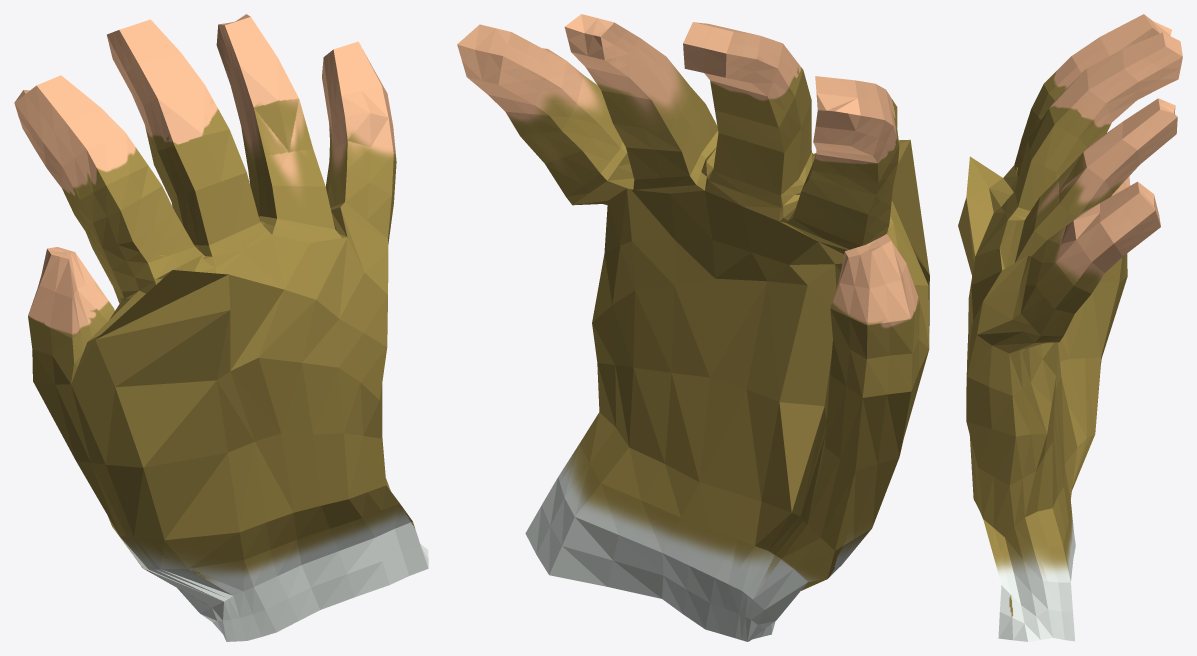
File: grip0022.obj
The picture shows the model from 3 angles, left to right: view 1: azimuth 30°, elevation 25°; view 2: azimuth 150°, elevation 25°; view 3: azimuth 270°, elevation 25°; orthographic projection. The views are drawn at different scales.
Parts seen in each view (by area): view 1: Hand; view 2: Hand; view 3: Hand.
Boxes of the visible parts, bbox=[...] form: Hand: bbox=[14, 14, 428, 641]; Hand: bbox=[457, 14, 929, 641]; Hand: bbox=[958, 14, 1182, 641].
Size of the model in its own units: 2.96 by 4.47 by 1.67.
